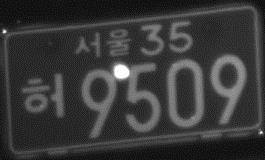0: (166, 59, 206, 129)
3: (139, 23, 165, 57)
5: (124, 61, 162, 133), (168, 19, 194, 53)
9: (209, 53, 248, 126), (80, 66, 118, 140)
서울_O: (75, 26, 133, 59)
허: (21, 72, 65, 121)
